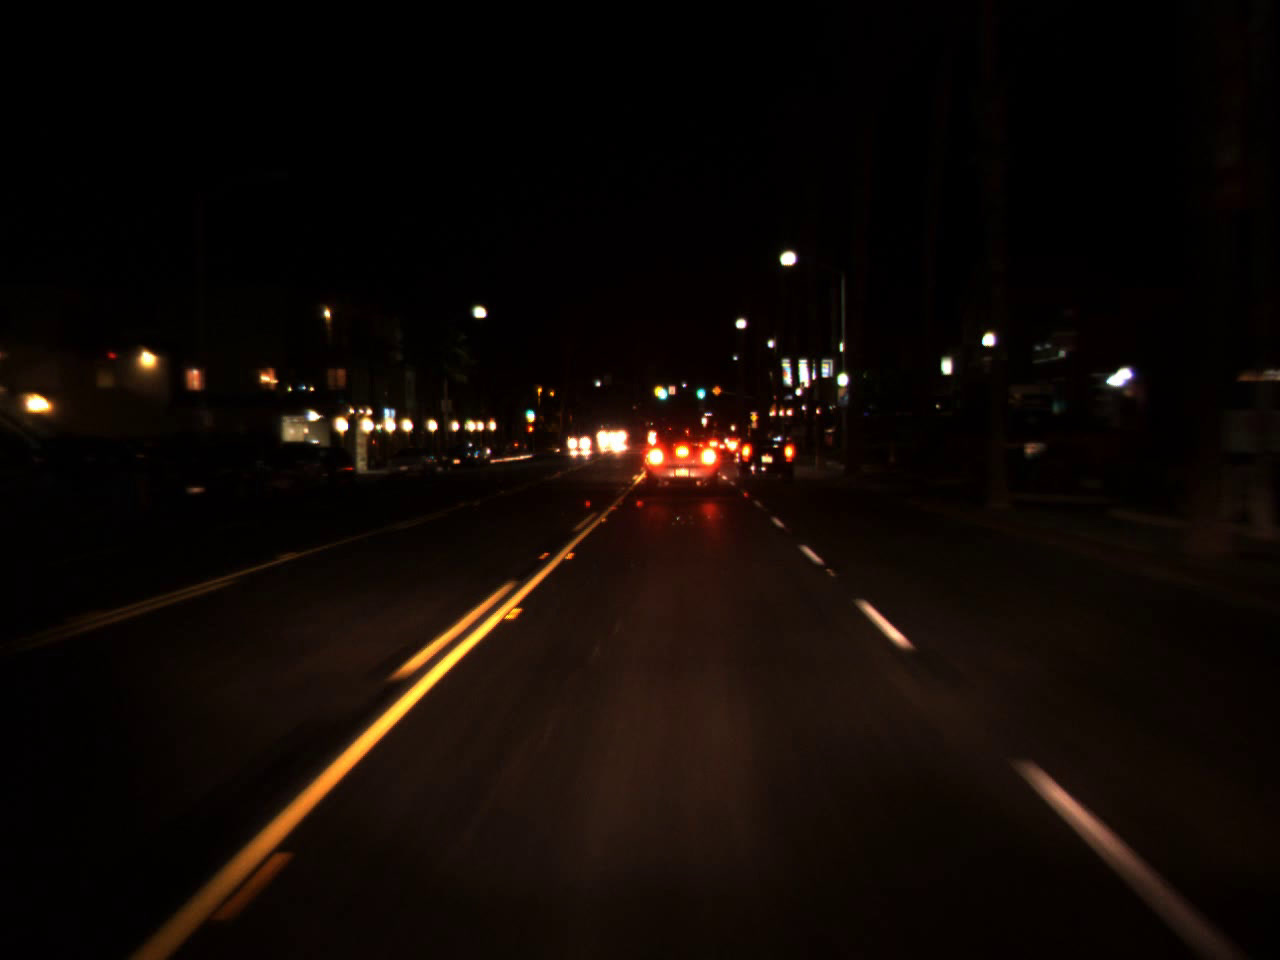go: (654, 375, 668, 402), (694, 379, 706, 400), (525, 404, 534, 416)
